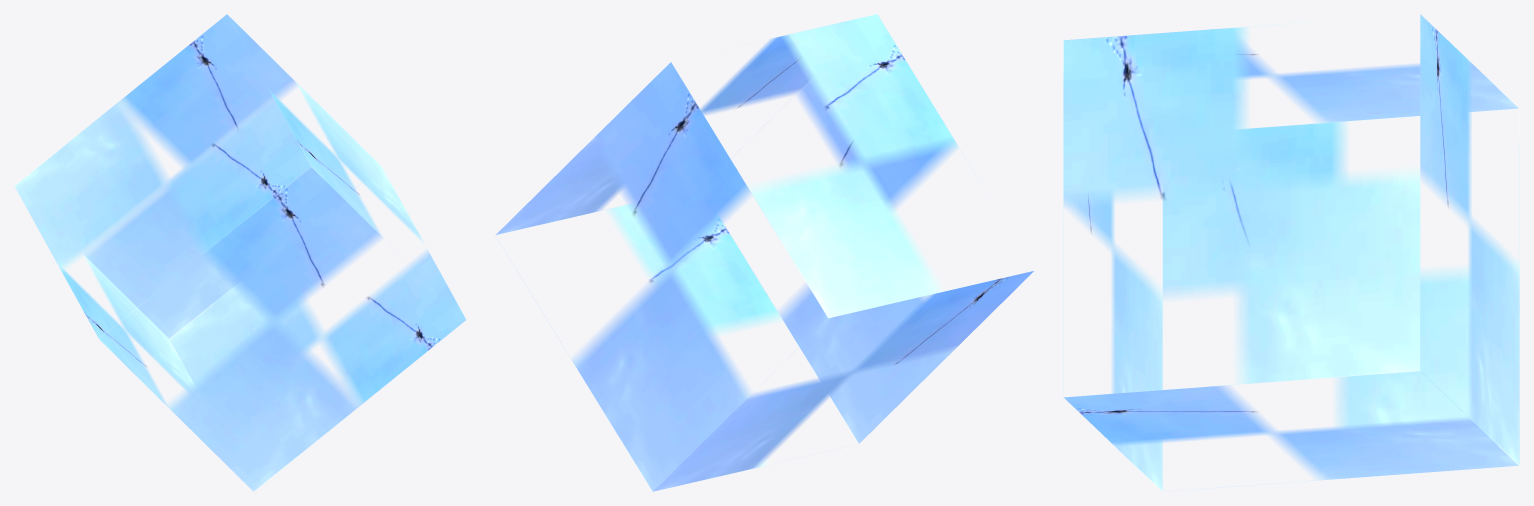
The model's file is cube_test_get-bb.glb.
3 renders of one model, left to right at view 1: azimuth 30°, elevation 25°; view 2: azimuth 150°, elevation 25°; view 3: azimuth 270°, elevation 25°, orthographic. The views are drawn at different scales.
Parts seen in each view (by area): view 1: Cube; view 2: Cube; view 3: Cube.
Boxes of the visible parts, x1,y1,x2,y2 form: Cube: (14, 14, 466, 491); Cube: (495, 14, 1034, 491); Cube: (1063, 14, 1519, 491).
Size of the model in its own units: 2.8 by 2.75 by 2.17.
Materials: 1 (1 with a texture image).
